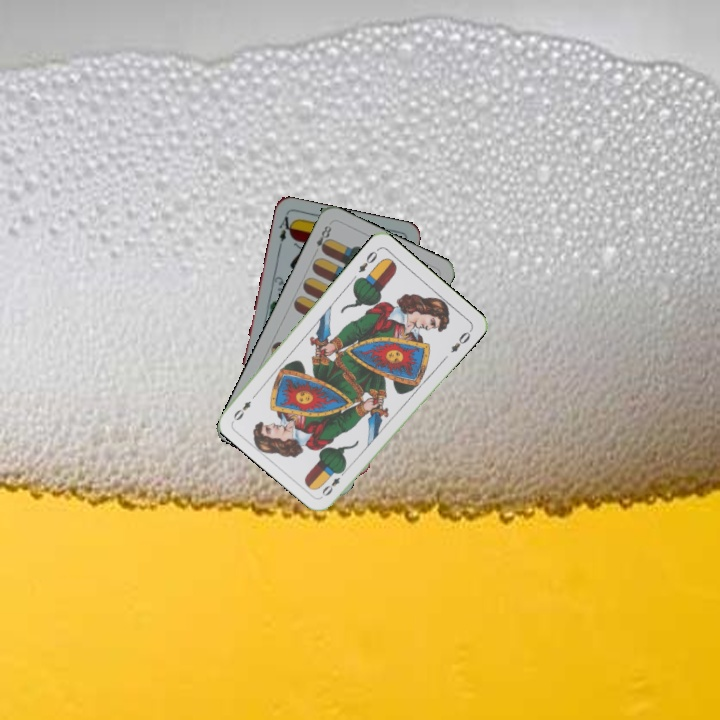E8: (310, 221, 334, 257)
EA: (274, 212, 296, 251)
EO: (318, 465, 349, 499), (354, 247, 380, 275)
